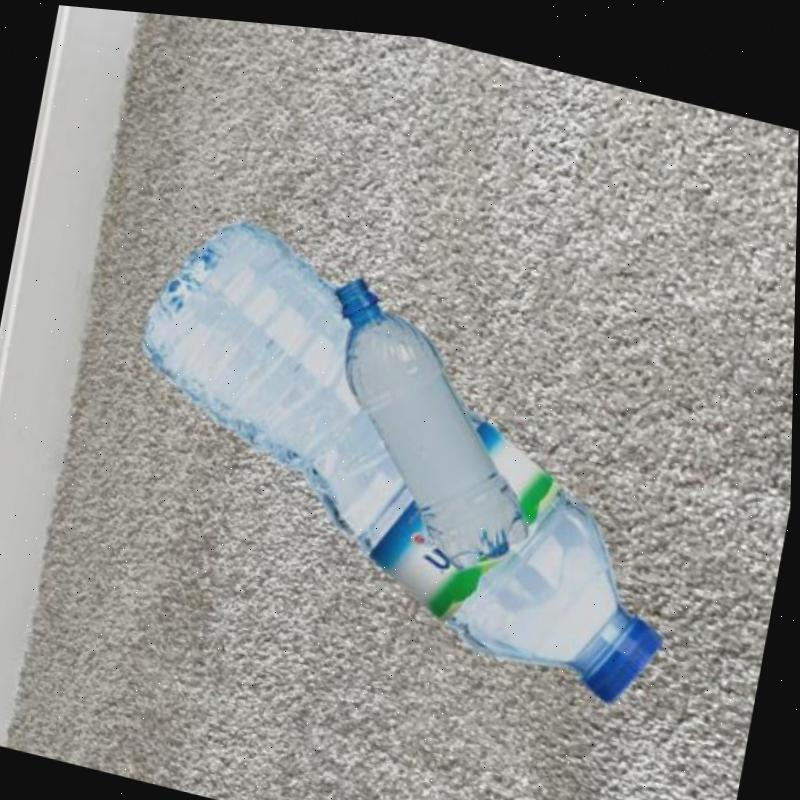botella: (96, 187, 720, 707), (296, 262, 563, 574)
